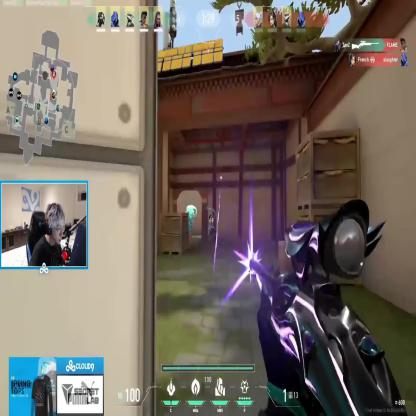enemy: (208, 211, 217, 241)
enemy_head: (210, 213, 212, 218)
